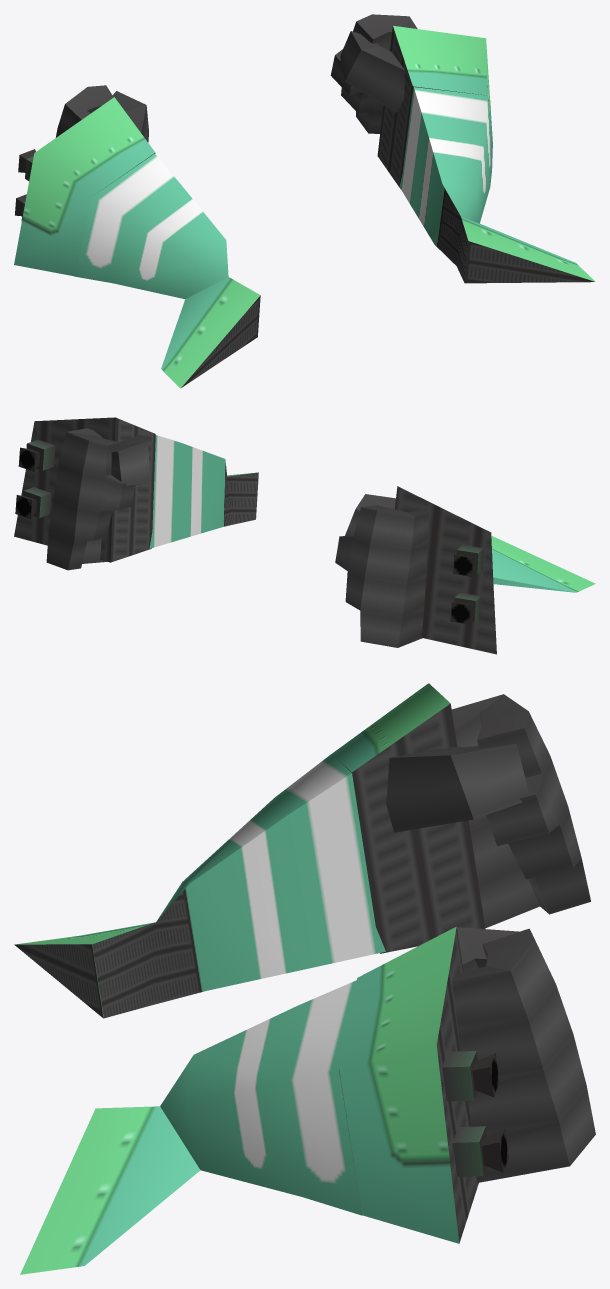
Rendered from MechFistsDisconnected.fbx.
The picture shows the model from 3 angles, top to bottom: view 1: azimuth 30°, elevation 25°; view 2: azimuth 150°, elevation 25°; view 3: azimuth 270°, elevation 25°; orthographic projection. The views are drawn at different scales.
Visible parts, largest first — view 1: FistDisconnected.left, FistDisconnected.right; view 2: FistDisconnected.right, FistDisconnected.left; view 3: FistDisconnected.right, FistDisconnected.left.
Boxes of the visible parts, left/top/right/bottom form: FistDisconnected.left: left=14, top=85, right=260, bottom=388; FistDisconnected.right: left=330, top=14, right=595, bottom=283; FistDisconnected.right: left=14, top=417, right=258, bottom=570; FistDisconnected.left: left=335, top=486, right=595, bottom=654; FistDisconnected.right: left=20, top=926, right=595, bottom=1274; FistDisconnected.left: left=14, top=683, right=590, bottom=1018.
Size of the model in its own units: 3.68 by 1.31 by 2.33.
